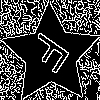F: (25, 29, 79, 81)
